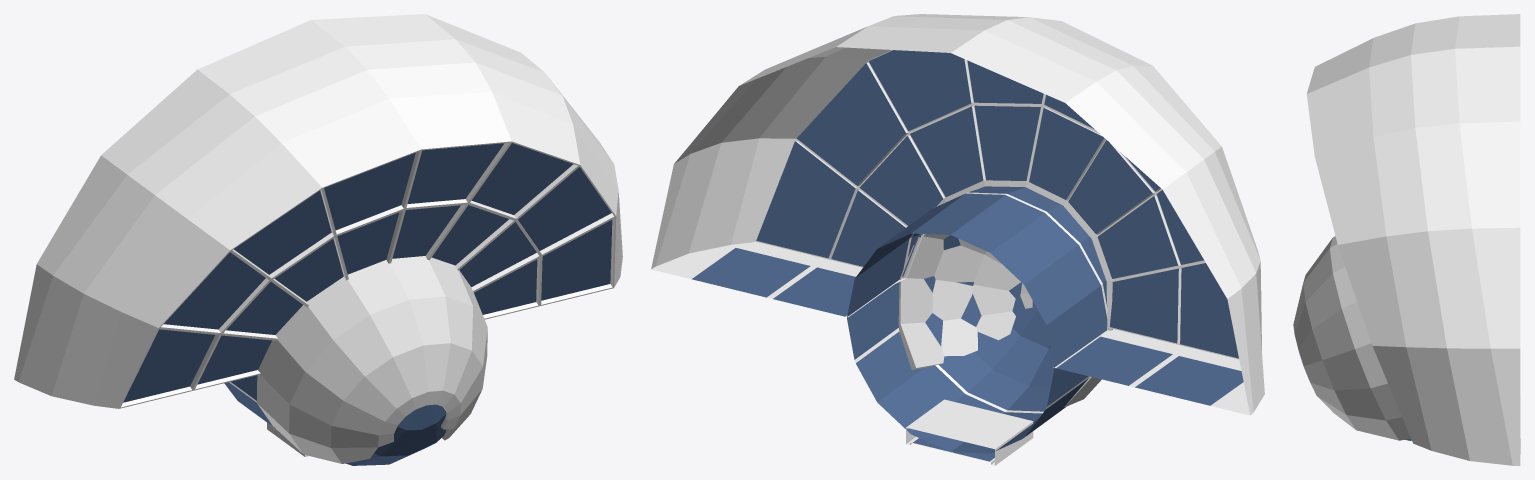
3 views of the same model, side by side, from view 1: azimuth 30°, elevation 25°; view 2: azimuth 150°, elevation 25°; view 3: azimuth 270°, elevation 25° (orthographic). The views are drawn at different scales.
Visible parts, largest first — view 1: FFFFFFFF, 4F6A94FF; view 2: 4F6A94FF, FFFFFFFF; view 3: FFFFFFFF.
Part boxes in pixels (bbox=[...]): FFFFFFFF: bbox=[14, 14, 622, 463]; 4F6A94FF: bbox=[123, 143, 612, 465]; 4F6A94FF: bbox=[692, 50, 1243, 461]; FFFFFFFF: bbox=[651, 14, 1264, 465]; FFFFFFFF: bbox=[1293, 14, 1520, 465].
Bounding box in the file's own units: 13.46 × 8.63 × 4.59.
